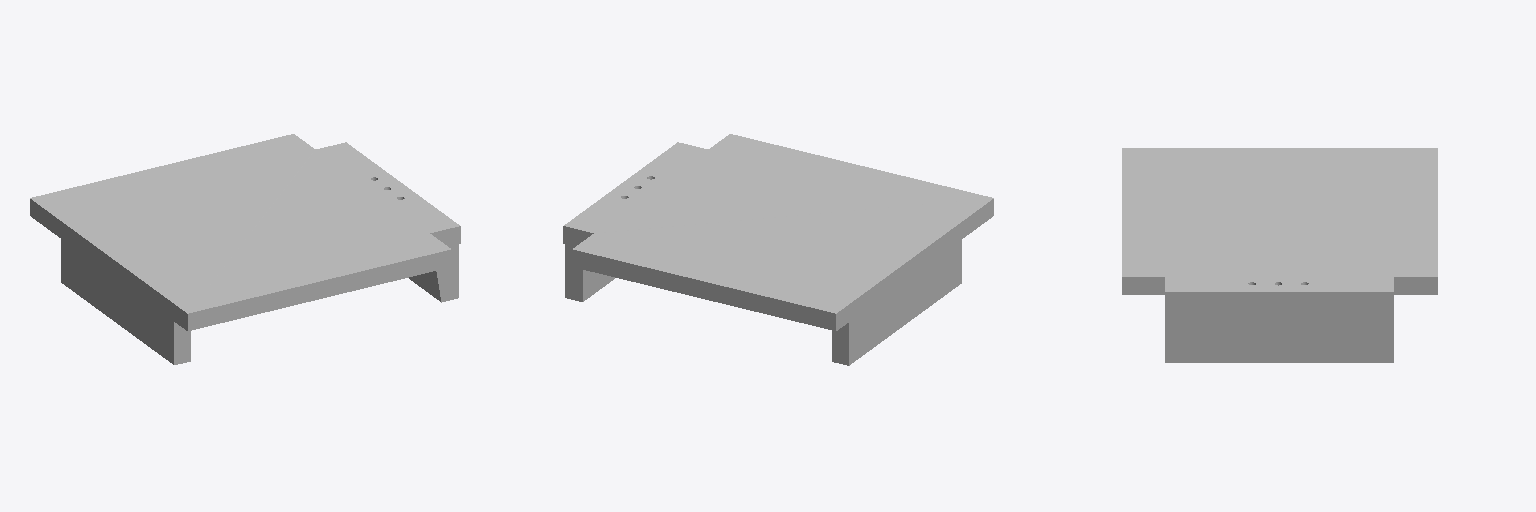
The model's file is sits.obj.
3 views of the same model, side by side, from view 1: azimuth 30°, elevation 25°; view 2: azimuth 150°, elevation 25°; view 3: azimuth 270°, elevation 25° (orthographic).
Parts seen in each view (by area): view 1: Mesh1 Group1 Model; view 2: Mesh1 Group1 Model; view 3: Mesh1 Group1 Model.
Part boxes in pixels (x1,y1,x2,y2): Mesh1 Group1 Model: (30,134,460,364); Mesh1 Group1 Model: (563,134,993,365); Mesh1 Group1 Model: (1122,148,1437,362).
Size of the model in its own units: 261 by 61.01 by 243.